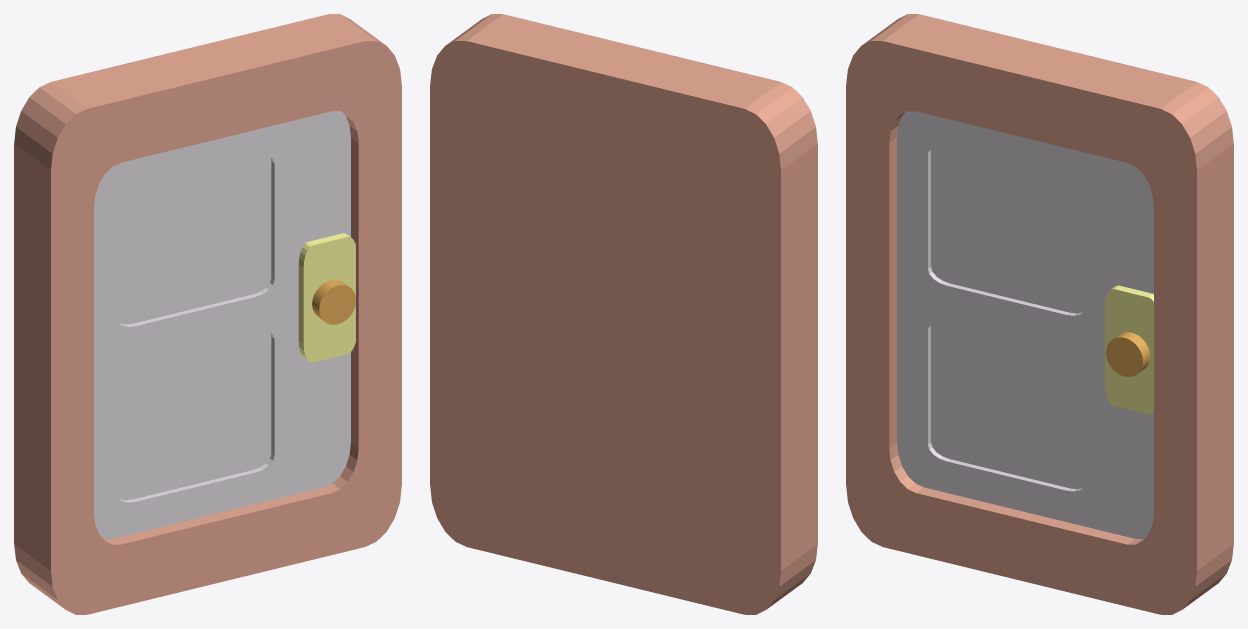
The model's file is door.fbx.
The picture shows the model from 3 angles, left to right: view 1: azimuth 30°, elevation 25°; view 2: azimuth 150°, elevation 25°; view 3: azimuth 330°, elevation 25°; orthographic projection.
Parts seen in each view (by area): view 1: Cylinder.017; view 2: Cylinder.017; view 3: Cylinder.017.
Part boxes in pixels (bbox=[...]): Cylinder.017: bbox=[14, 14, 401, 614]; Cylinder.017: bbox=[430, 14, 817, 614]; Cylinder.017: bbox=[846, 14, 1233, 614].
Size of the model in its own units: 80.52 by 111 by 16.29.
